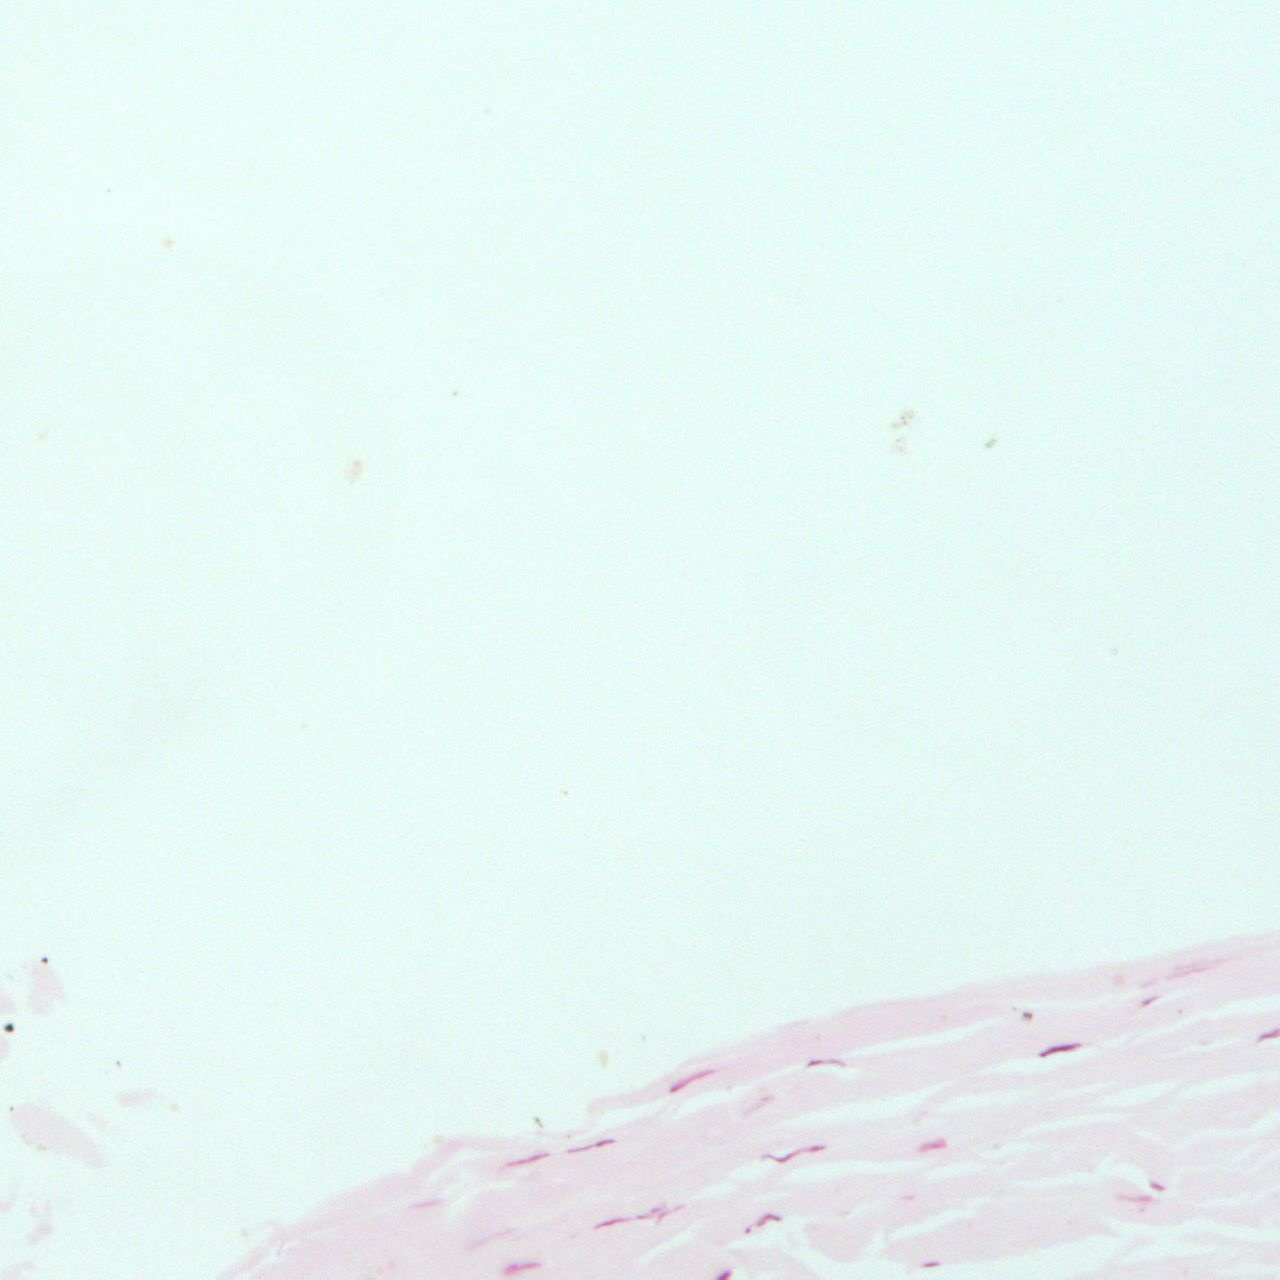dust: (3, 1022, 14, 1033), (1023, 1011, 1036, 1020), (535, 1118, 543, 1129), (42, 956, 49, 963), (115, 1059, 120, 1068), (8, 1107, 14, 1111)
nucleus-AC: (667, 1065, 717, 1094), (565, 1136, 618, 1155), (470, 1226, 514, 1248), (501, 1255, 542, 1277), (504, 1151, 551, 1168), (1037, 1042, 1083, 1057), (760, 1145, 796, 1163), (594, 1215, 630, 1230), (408, 1197, 443, 1212), (1252, 1028, 1280, 1044), (917, 1138, 946, 1153), (1136, 993, 1161, 1010), (805, 1058, 846, 1067), (652, 1208, 673, 1225), (755, 1214, 781, 1227), (1124, 1194, 1153, 1203), (1148, 1180, 1164, 1191), (719, 1268, 731, 1280), (807, 1144, 825, 1152), (920, 1260, 939, 1267), (636, 1214, 651, 1220), (649, 1207, 663, 1213), (744, 1226, 750, 1234)
